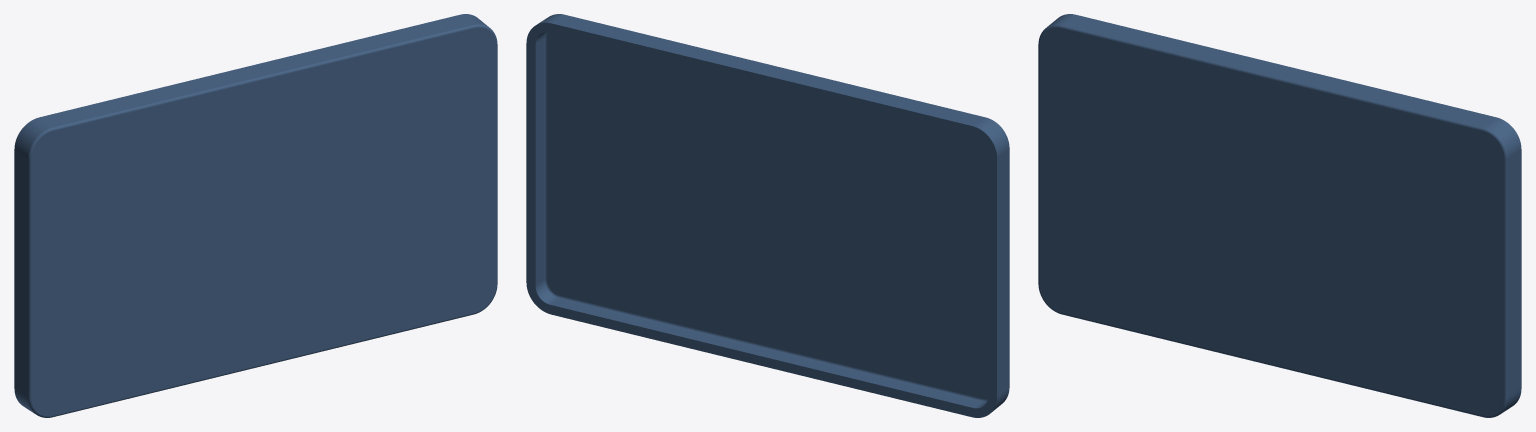
File: VERGE_Model_Refrigerator__TUBE 1.obj
3 renders of one model, left to right at view 1: azimuth 30°, elevation 25°; view 2: azimuth 150°, elevation 25°; view 3: azimuth 330°, elevation 25°, orthographic.
Visible parts, largest first — view 1: VERGE_Model_Refrigerator__TUBE 1; view 2: VERGE_Model_Refrigerator__TUBE 1; view 3: VERGE_Model_Refrigerator__TUBE 1.
Boxes of the visible parts, x1,y1,x2,y2 form: VERGE_Model_Refrigerator__TUBE 1: (14,14,497,417); VERGE_Model_Refrigerator__TUBE 1: (526,14,1009,417); VERGE_Model_Refrigerator__TUBE 1: (1038,14,1521,417).
Size of the model in its own units: 97.87 by 57.87 by 5.1.
